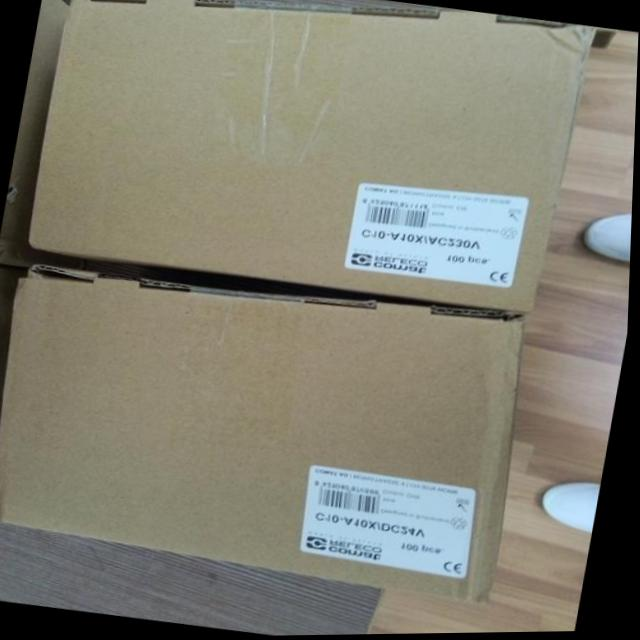box: (0, 263, 527, 607), (30, 0, 597, 316)
